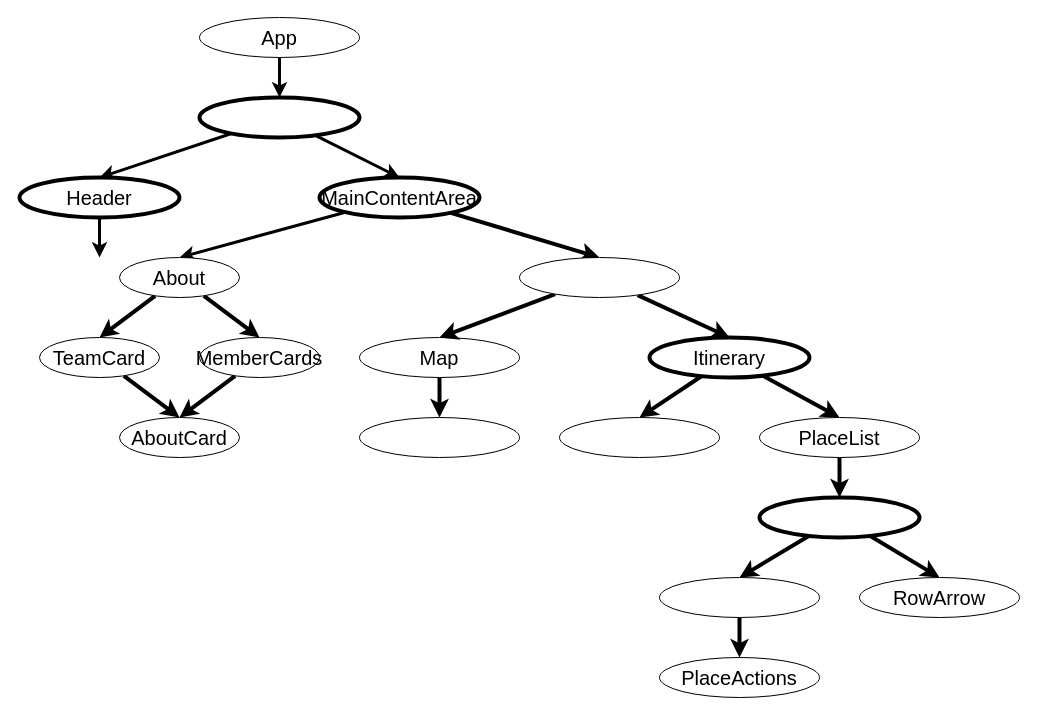
The diagram is 1037 pixels wide and 715 high, and some of its shapes have lost their labels. Each missing label, with the centre of its shape:
AdditionalPlaceInfo: pixel 739 597
Marker: pixel 439 437
Page: pixel 279 117
PlaceRow: pixel 839 517
Planner: pixel 599 277
TripHeader: pixel 639 437
